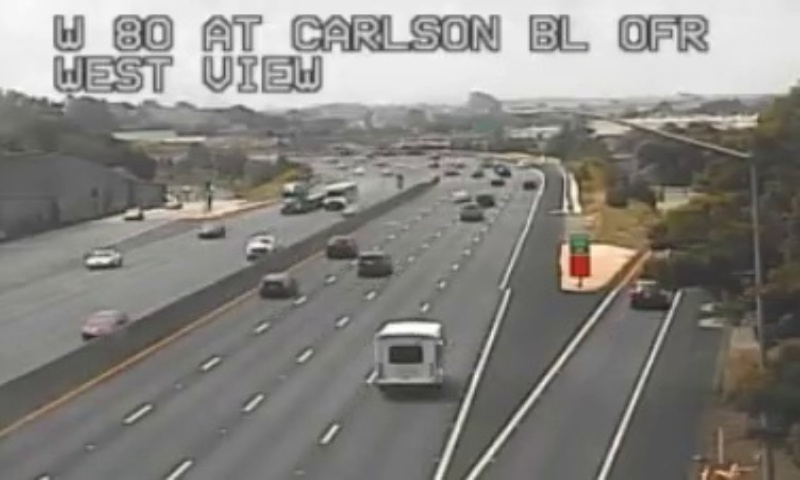bus: (374, 321, 440, 386)
car: (257, 274, 295, 299), (355, 252, 391, 277), (325, 236, 357, 258)
